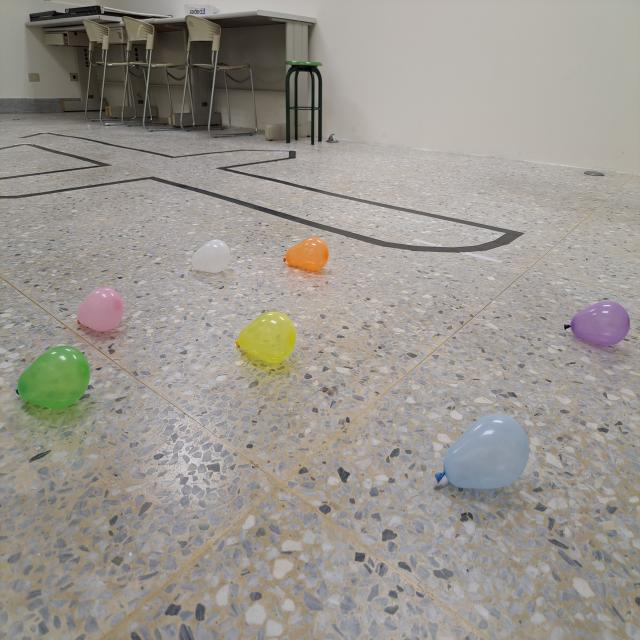other: (434, 413, 529, 493), (12, 346, 90, 411), (234, 308, 295, 365), (562, 300, 630, 345), (75, 288, 124, 334), (281, 235, 330, 272), (189, 238, 231, 274)
